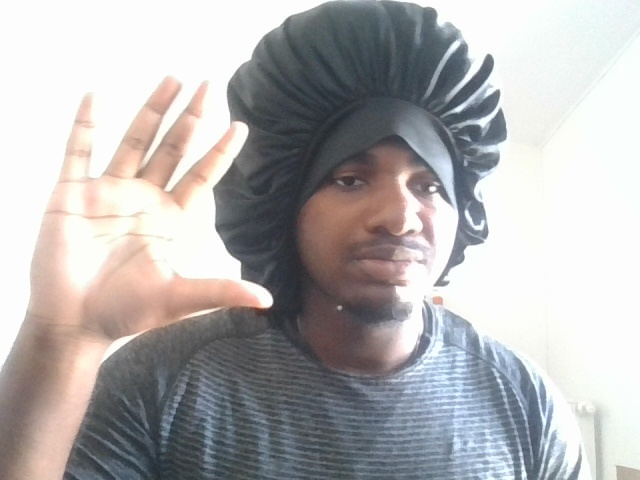Hello: (23, 70, 276, 329)
